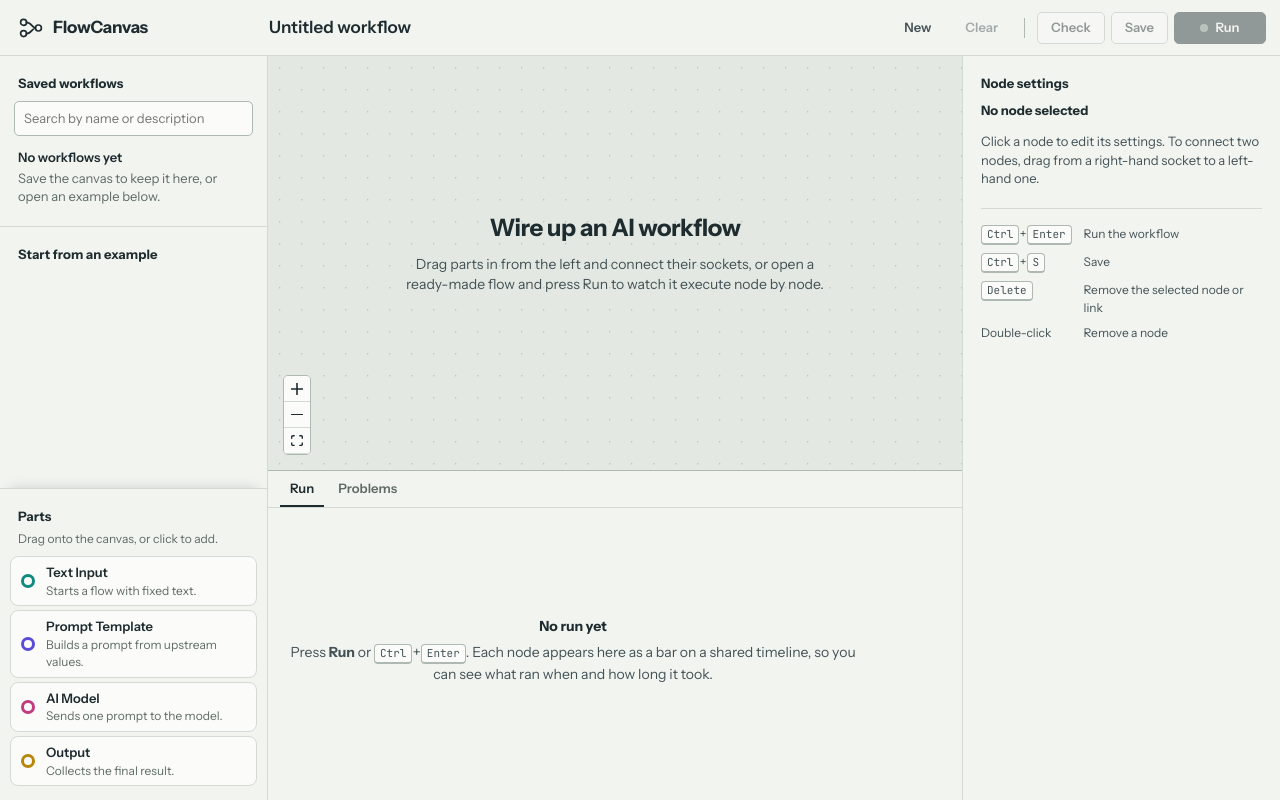
Test: App › warns in the inspector when a key is already taken
The width and height of the screenshot is (1280, 800).
Click the button with test id "add-node-TEXT_INPUT": (134,581) [10,556,257,606]
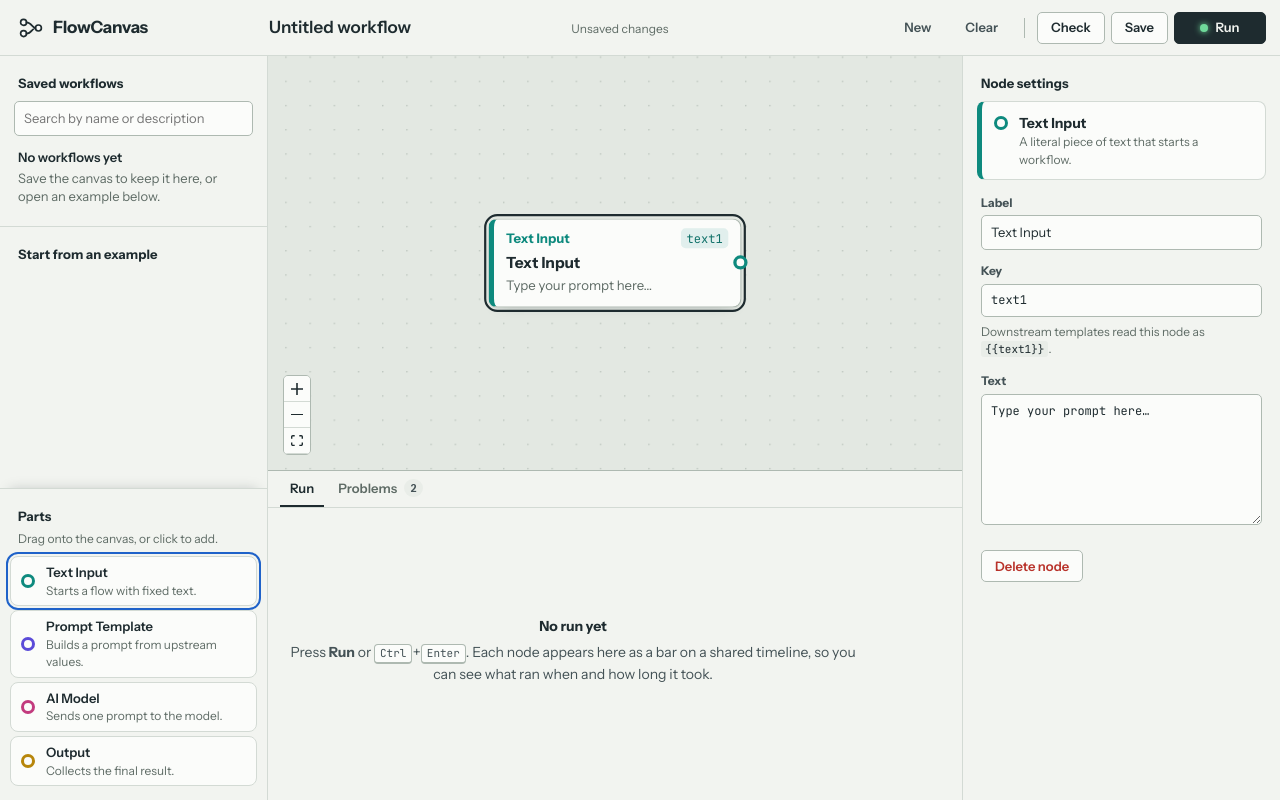
Click the button with test id "add-node-TEXT_INPUT": (134,581) [10,556,257,606]
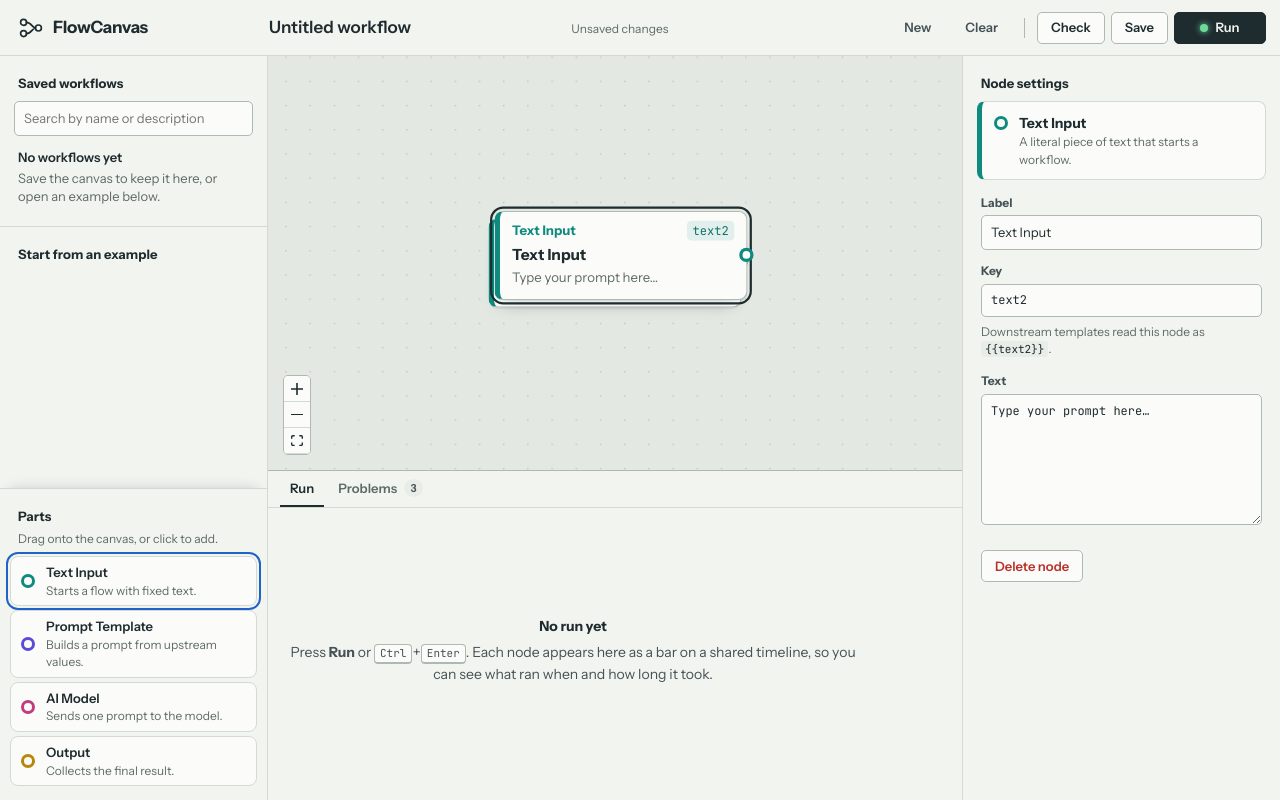
Replace the text in the field with test id "inspector-key" with "TEXT1": (1122,300) [981,284,1262,317]
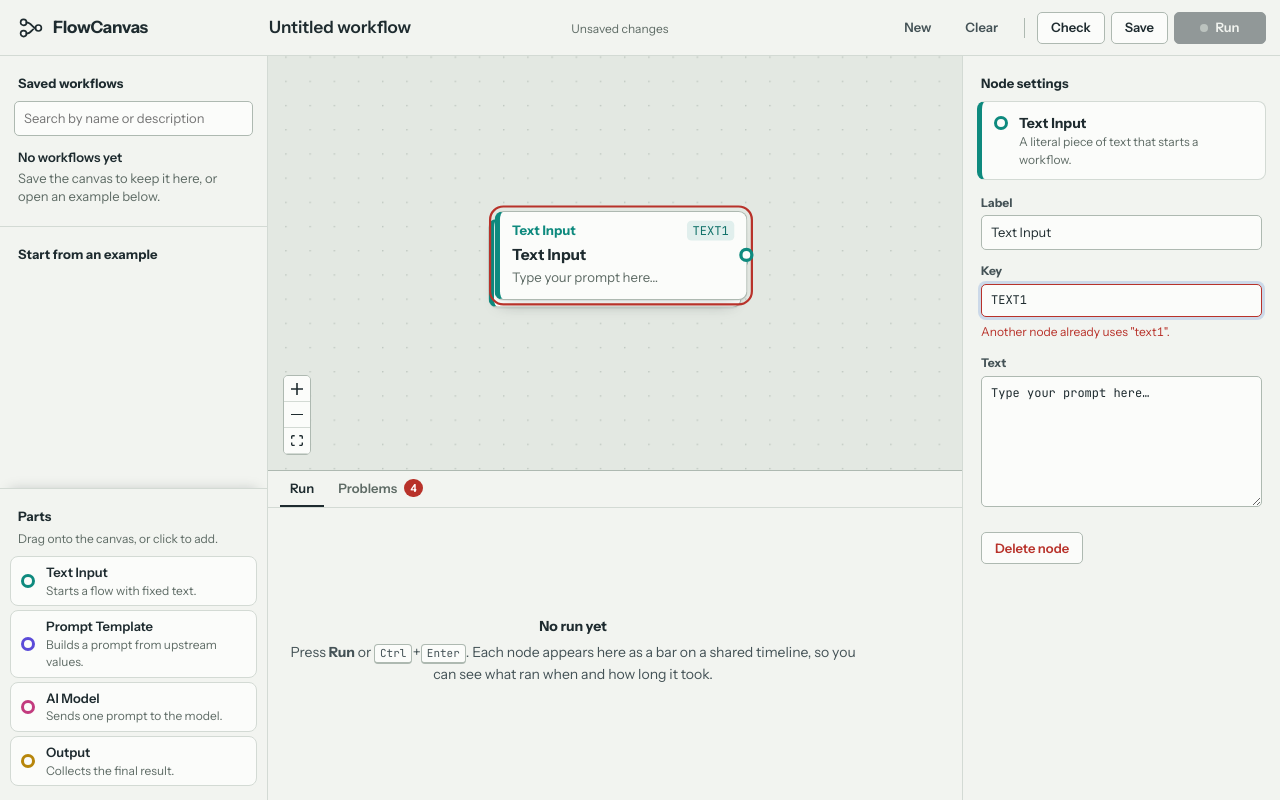
Expected: the text with test id "inspector-key-help" shows "Another node already uses \"text1\"", [981,324,1170,339]
